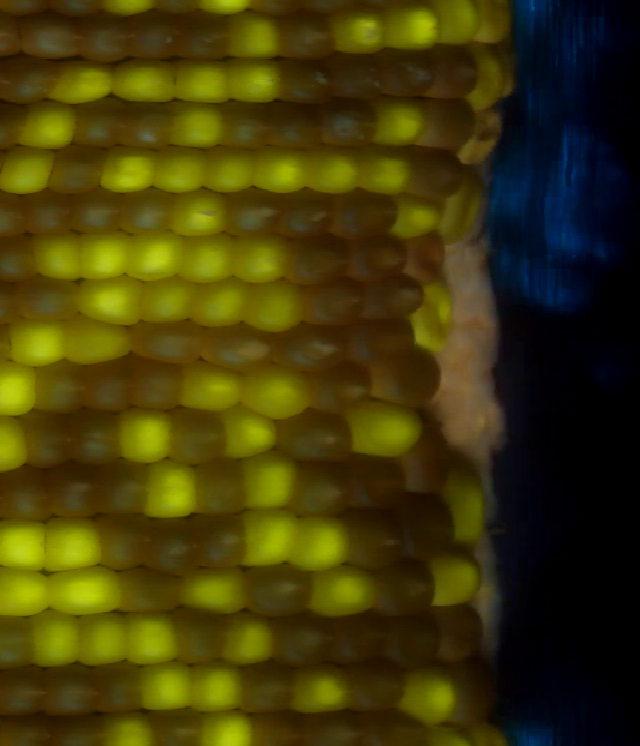fluorescent: (229, 365, 311, 423), (344, 397, 423, 456), (442, 470, 494, 550), (43, 513, 111, 574), (108, 406, 175, 466), (76, 271, 148, 325), (49, 566, 125, 617), (109, 53, 181, 106), (180, 357, 243, 416), (144, 455, 201, 520), (282, 661, 351, 714), (291, 509, 349, 572), (401, 661, 459, 724), (172, 229, 237, 285), (61, 311, 135, 359), (45, 54, 113, 106), (218, 403, 280, 460), (241, 450, 296, 514), (135, 655, 193, 714), (150, 145, 217, 196), (307, 569, 378, 617), (238, 275, 301, 329), (187, 659, 245, 717), (228, 228, 285, 287), (243, 507, 297, 569), (181, 567, 249, 616), (127, 228, 186, 283), (245, 144, 308, 195), (0, 144, 58, 199), (74, 608, 129, 666), (172, 187, 232, 240), (183, 277, 246, 327), (328, 3, 388, 55), (27, 229, 87, 280), (20, 98, 78, 150), (301, 144, 359, 196), (175, 56, 235, 106), (224, 56, 285, 104), (225, 9, 281, 61), (430, 551, 482, 607), (123, 608, 177, 661), (102, 141, 154, 196), (446, 176, 488, 244), (76, 229, 134, 278), (228, 607, 272, 671), (202, 141, 256, 193), (133, 274, 190, 323), (34, 607, 81, 666), (417, 282, 455, 354), (462, 108, 508, 166), (375, 96, 424, 149), (0, 564, 49, 617), (11, 317, 65, 365), (174, 98, 224, 149), (0, 517, 49, 569), (392, 1, 451, 43), (353, 150, 412, 191), (0, 364, 41, 419), (435, 1, 481, 48), (471, 51, 508, 108), (393, 198, 443, 240), (0, 412, 35, 471), (479, 1, 516, 51)
nonfluorescent: (370, 338, 444, 413), (245, 562, 322, 622), (125, 316, 209, 369), (201, 318, 281, 372), (274, 408, 354, 462), (372, 555, 435, 622), (169, 406, 232, 470), (278, 319, 350, 374), (319, 606, 386, 664), (302, 362, 370, 419), (398, 141, 460, 203), (395, 495, 454, 559), (344, 228, 409, 286), (18, 407, 76, 472), (406, 418, 451, 501), (233, 659, 297, 717), (95, 455, 148, 522), (192, 456, 248, 519), (297, 278, 364, 330), (140, 516, 199, 575), (346, 450, 403, 511), (429, 609, 490, 666), (292, 461, 348, 523), (117, 565, 182, 618), (41, 661, 99, 720), (275, 183, 335, 240), (130, 354, 187, 414), (29, 360, 90, 414), (85, 351, 134, 418), (171, 603, 220, 670), (281, 235, 344, 287), (97, 517, 154, 574), (418, 99, 477, 154), (1, 53, 61, 107), (269, 613, 329, 667), (70, 409, 123, 470), (218, 185, 280, 237), (20, 9, 83, 60), (0, 465, 54, 524), (381, 612, 440, 666), (340, 659, 399, 713), (20, 272, 80, 325), (0, 660, 53, 720), (46, 460, 97, 522), (349, 317, 413, 366), (95, 660, 149, 718), (275, 56, 335, 108), (374, 48, 435, 99), (198, 509, 249, 570), (332, 186, 395, 235), (345, 509, 398, 567), (119, 96, 174, 151), (67, 95, 123, 149), (77, 7, 129, 65), (275, 9, 333, 60), (267, 102, 324, 153), (316, 102, 376, 149), (329, 50, 382, 103), (427, 45, 476, 102), (219, 101, 272, 153), (50, 143, 102, 196), (128, 11, 182, 62), (178, 11, 228, 66), (361, 275, 420, 320), (29, 186, 78, 238), (122, 187, 172, 235), (404, 229, 446, 286), (71, 186, 123, 232), (0, 609, 37, 671), (0, 235, 37, 282), (0, 190, 32, 241)
